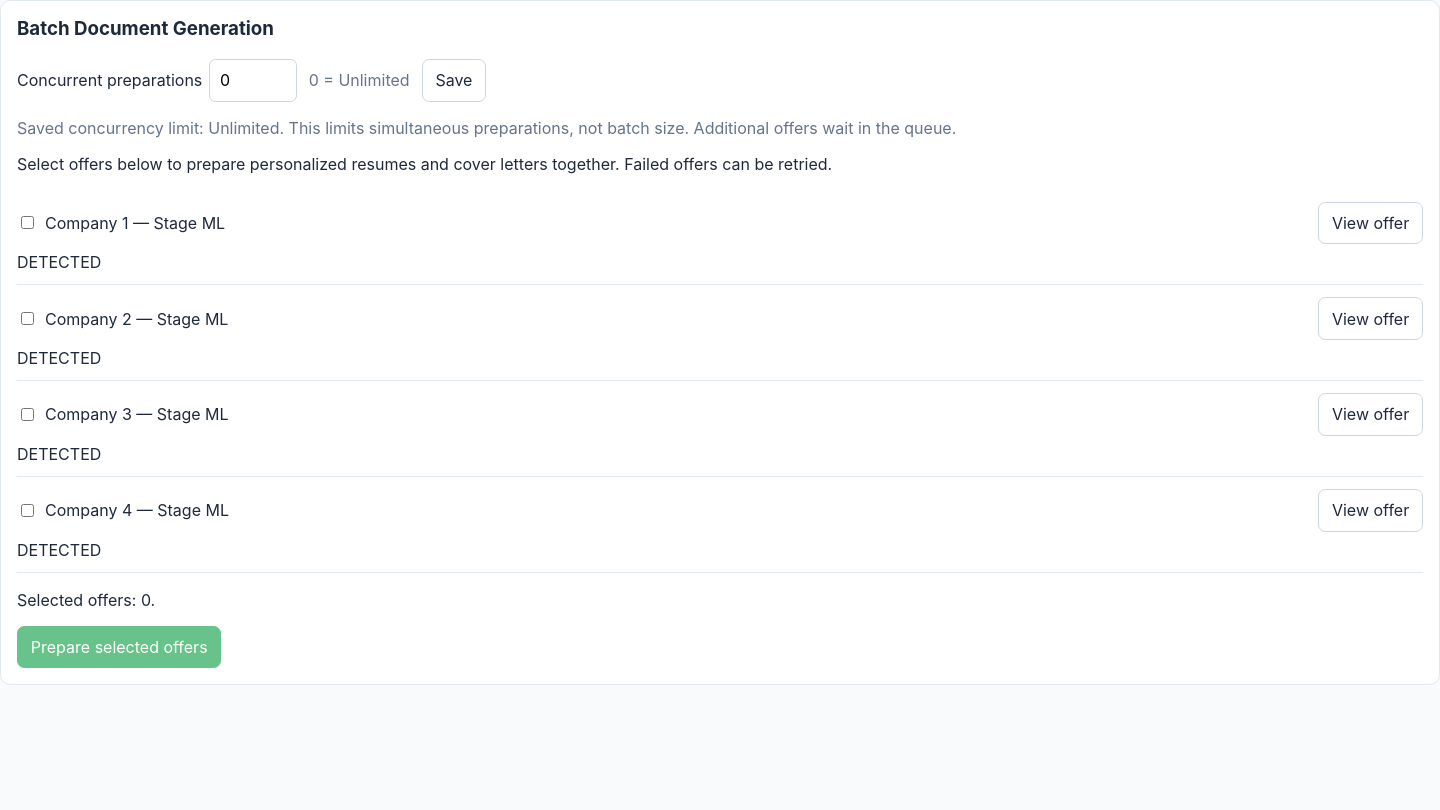
it: Batch Document Generation › renders server validation and per-offer errors
Click the checkbox labelled "Company 1 — Stage ML" at coordinates (28, 223), box [21, 216, 34, 229]
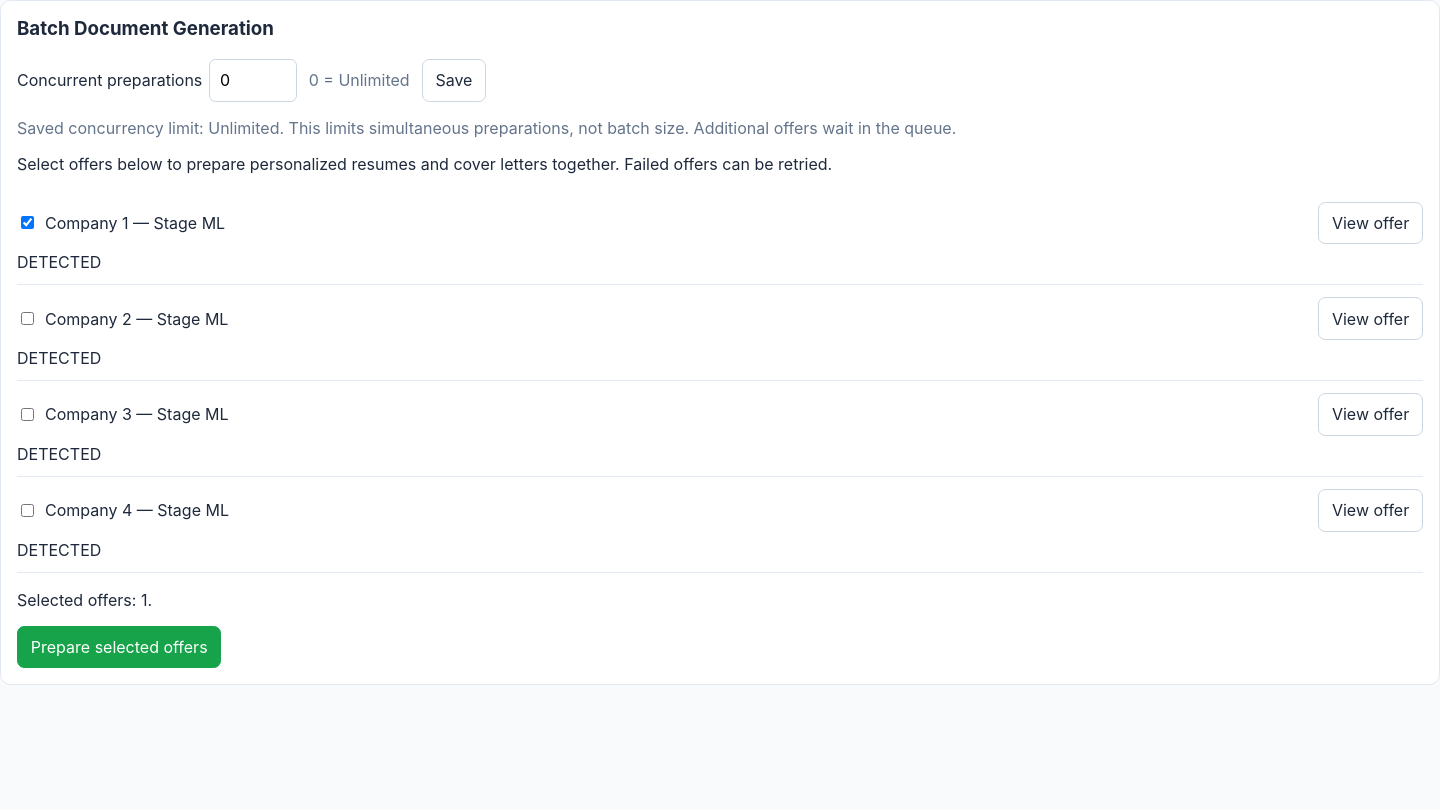
Click the checkbox labelled "Company 2 — Stage ML" at coordinates (28, 319), box [21, 312, 34, 325]
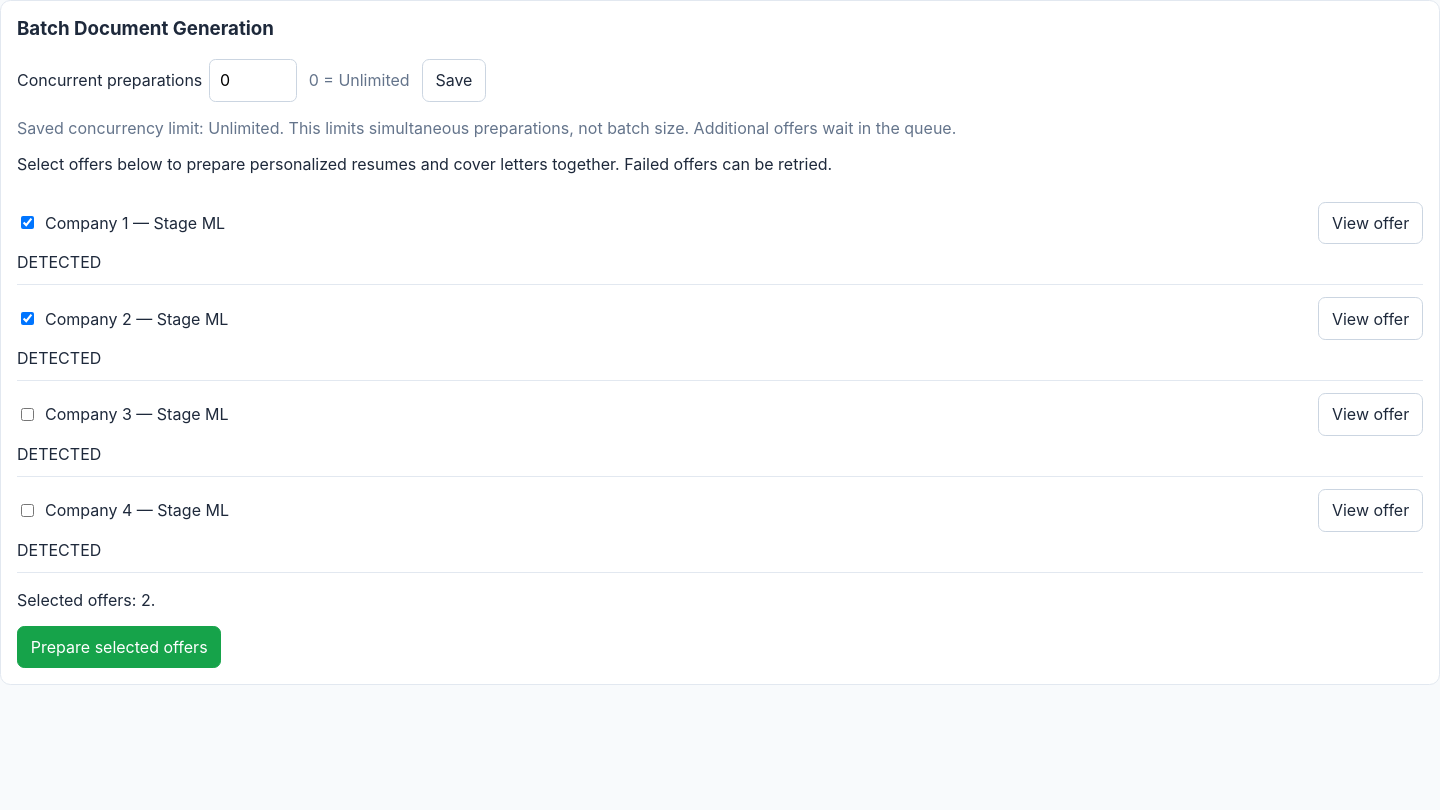
Click the button "Prepare selected offers" at coordinates (119, 647), box [17, 626, 221, 668]
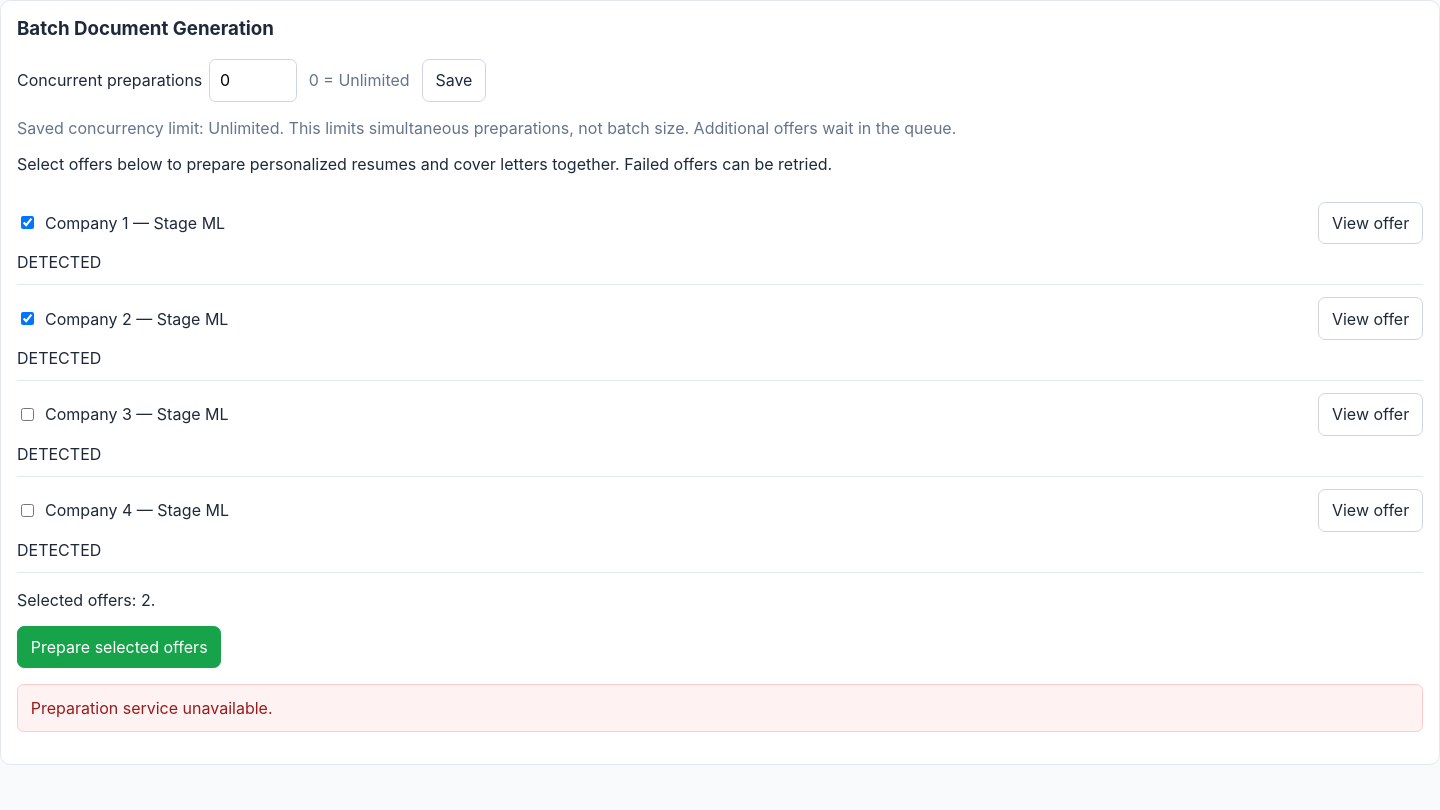
Check: the text "Preparation service unavailable." is shown, box [17, 684, 1423, 732]
Click the button "Prepare selected offers" at coordinates (119, 647), box [17, 626, 221, 668]
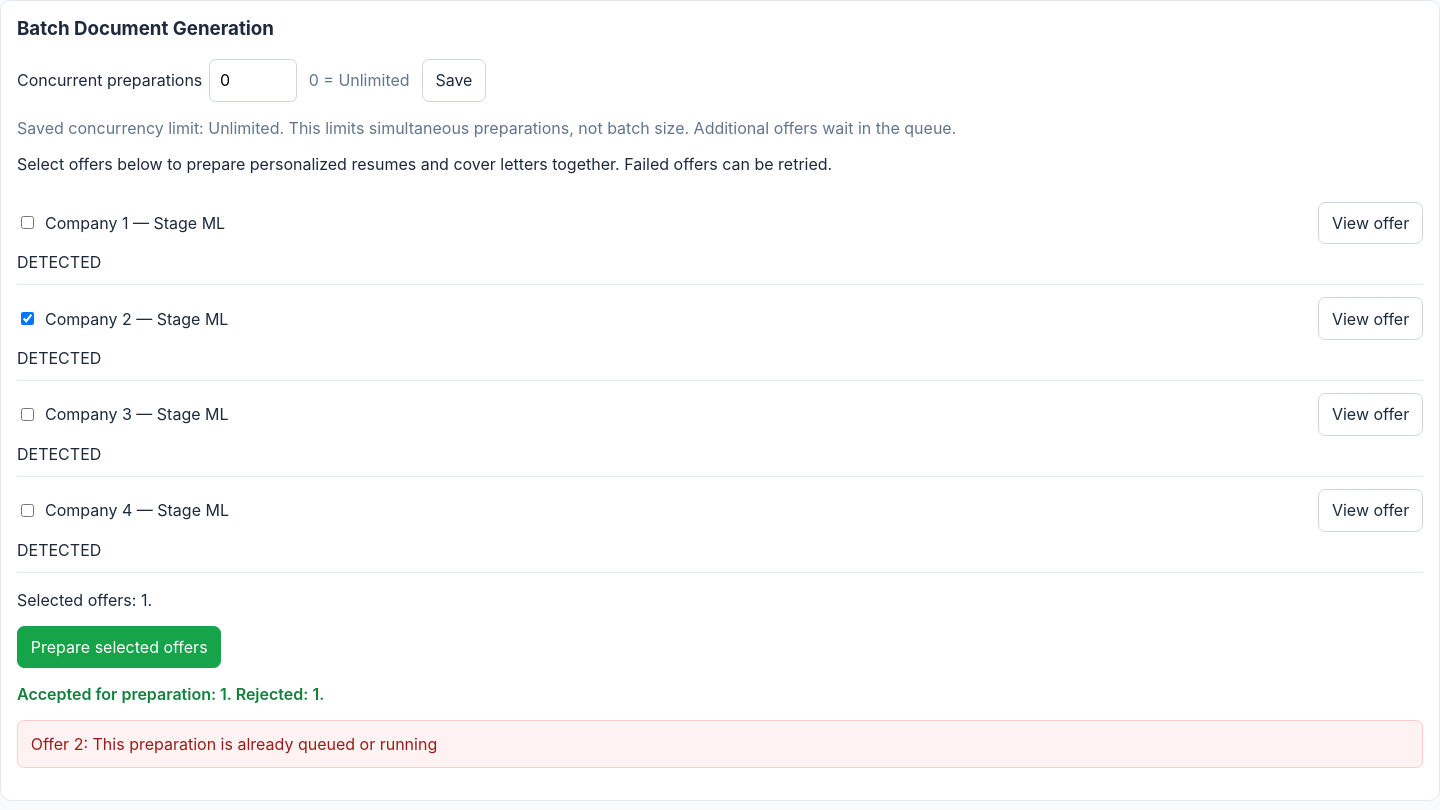
Check: the text "Accepted for preparation: 1. Rejected: 1." is shown, box [17, 684, 324, 704]
Check: the text "Offer 2: This preparation is already queued or running" is shown, box [17, 720, 1423, 768]
